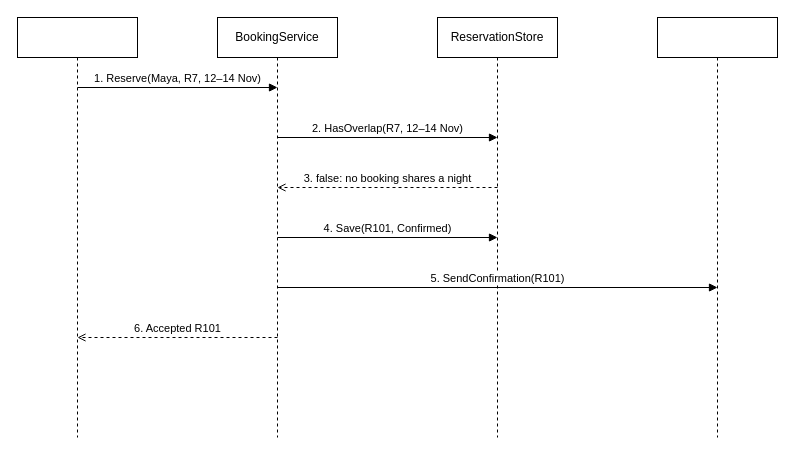
Image size: 795x455. Some labels were removed from this diagram. Here are the shapes that lost their labels. From the top down, the box of each, then its label:
(16, 16, 138, 438): Maya
(656, 16, 778, 438): EmailSender
